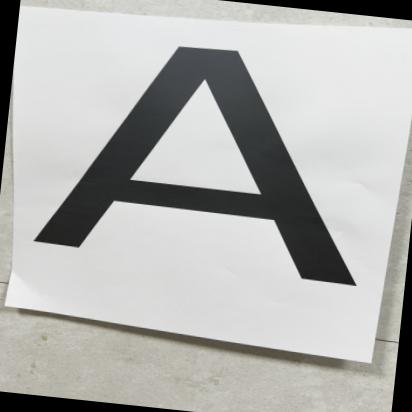seat: (4, 12, 392, 304)
